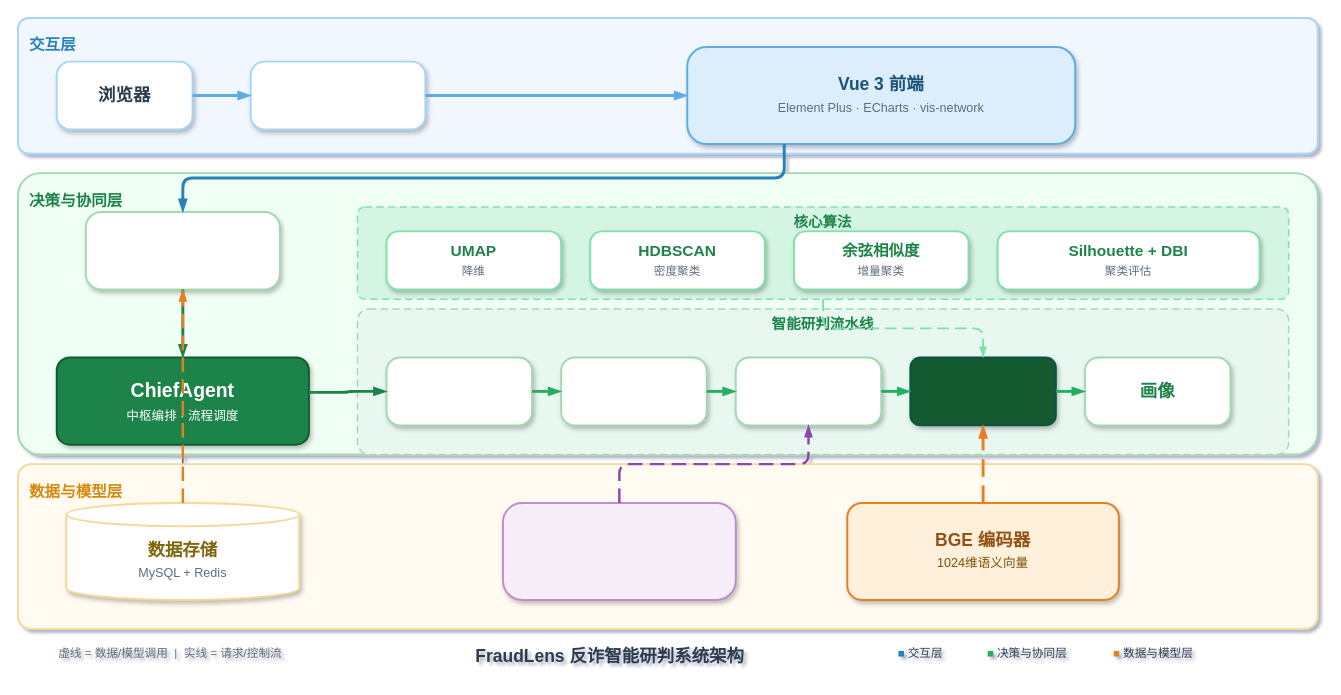
This 1341x695 diagram has some shape labels left out. Each missing label, with the centre of its shape:
"DeepSeek 大语言模型" goes at pixel 620 552.
"FastAPI RESTful API" goes at pixel 183 252.
"Nginx 反向代理" goes at pixel 338 96.
"分析" goes at pixel 809 392.
"分案" goes at pixel 634 392.
"聚类" goes at pixel 983 392.
"预处理" goes at pixel 459 392.
